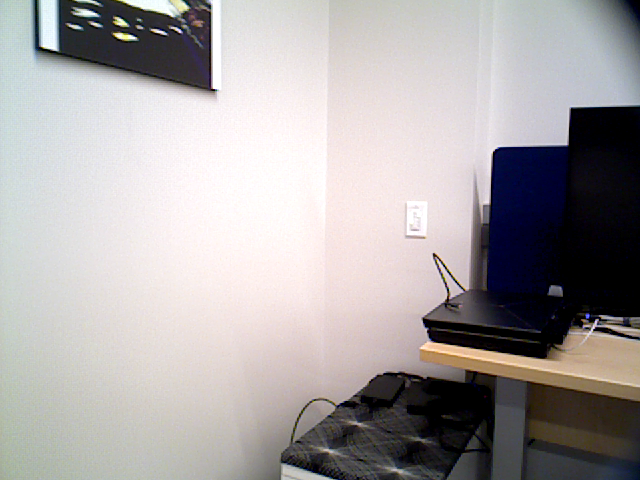painting3: (36, 1, 218, 92)
